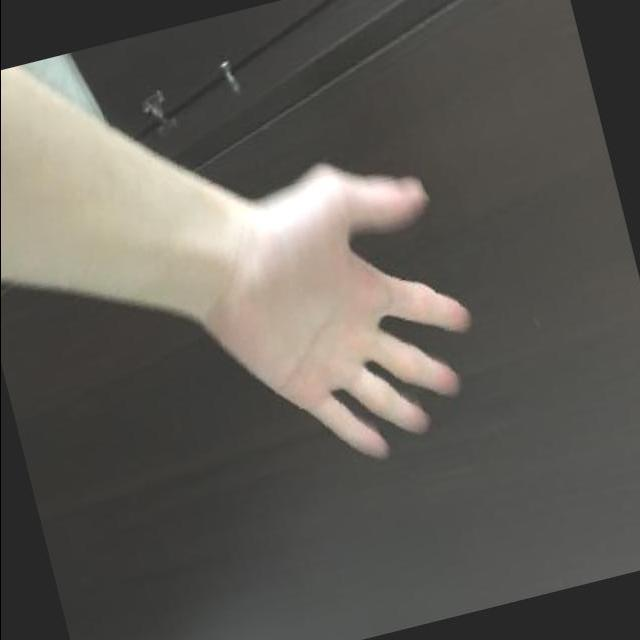hand: (157, 117, 516, 509)
